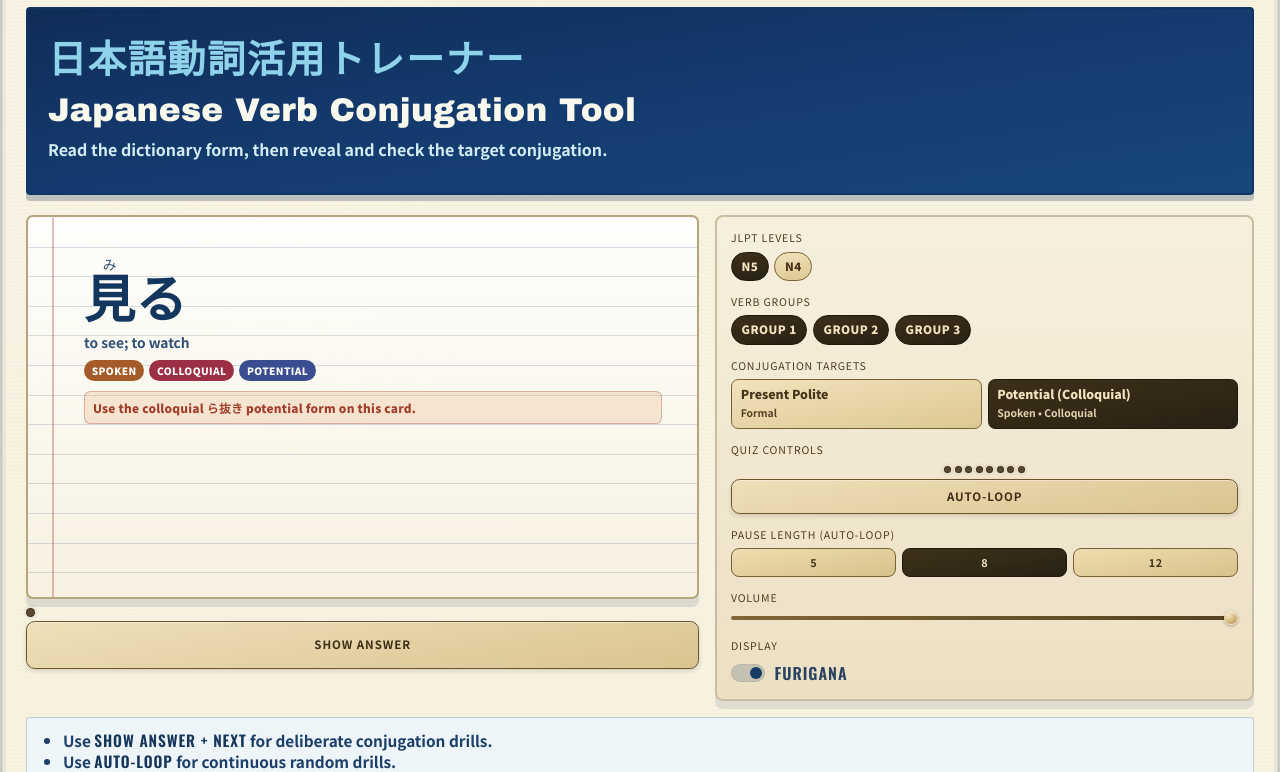
Test: JapaneseVerbConjugationToolPage › shows playback hint when audio fails with a non-abort error
Click the button "Show Answer": [363, 645] box [26,621,699,669]
(page scrolled)
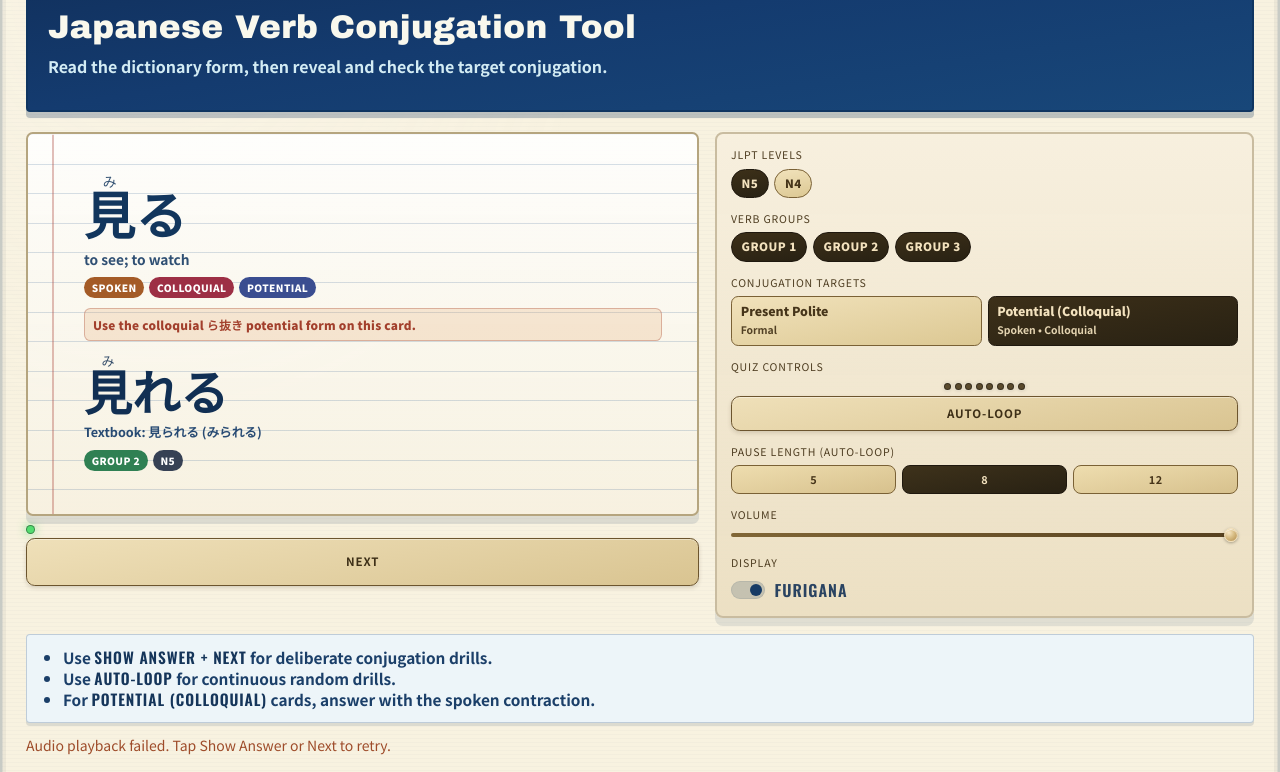
Check: the text "Audio playback failed. Tap Show Answer or Next to retry." is shown, box [26,735,391,755]
